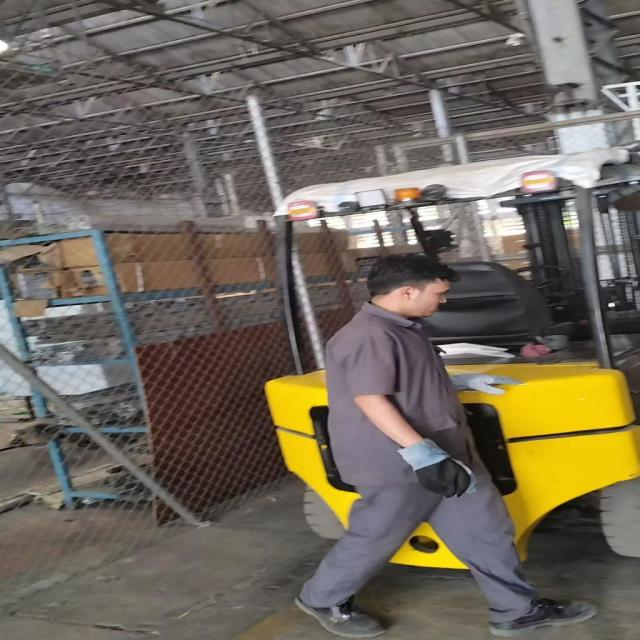Gloves-Detection: (391, 437, 459, 493), (446, 380, 526, 398)
